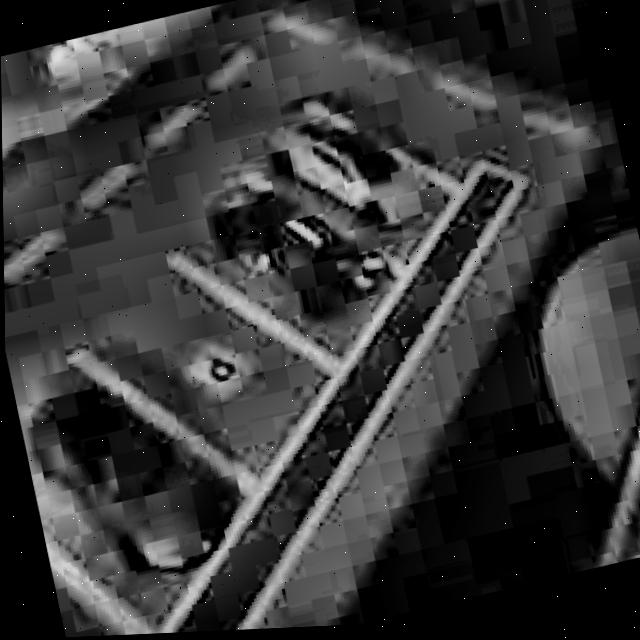car: (17, 345, 252, 622), (192, 131, 403, 359), (251, 73, 448, 277)
